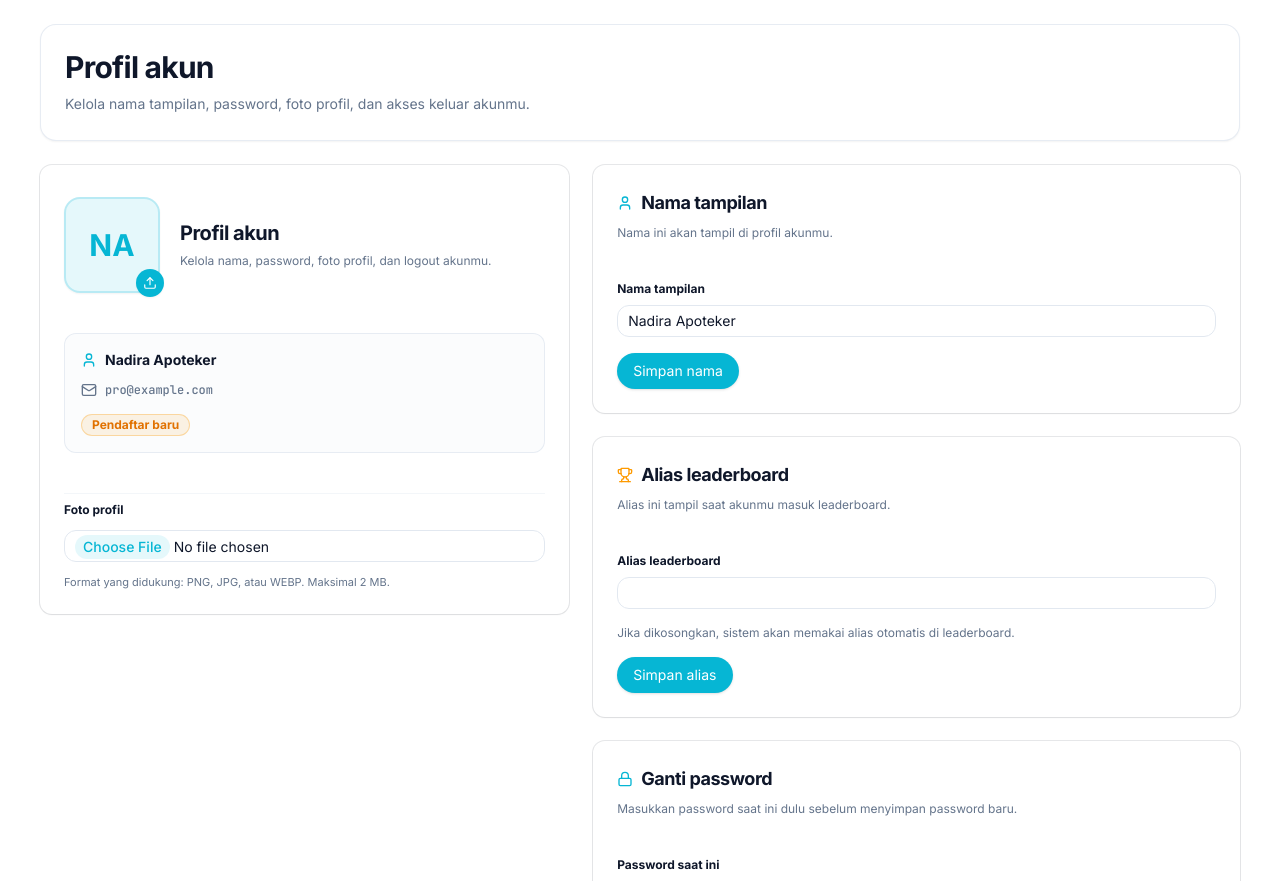
Test: ProfilePage › submits a valid display name change
The width and height of the screenshot is (1280, 881).
Replace the text in the field labelled "Nama tampilan" with "Nadira Apoteker Baru": (917, 321) x1=617 y1=305 x2=1216 y2=337
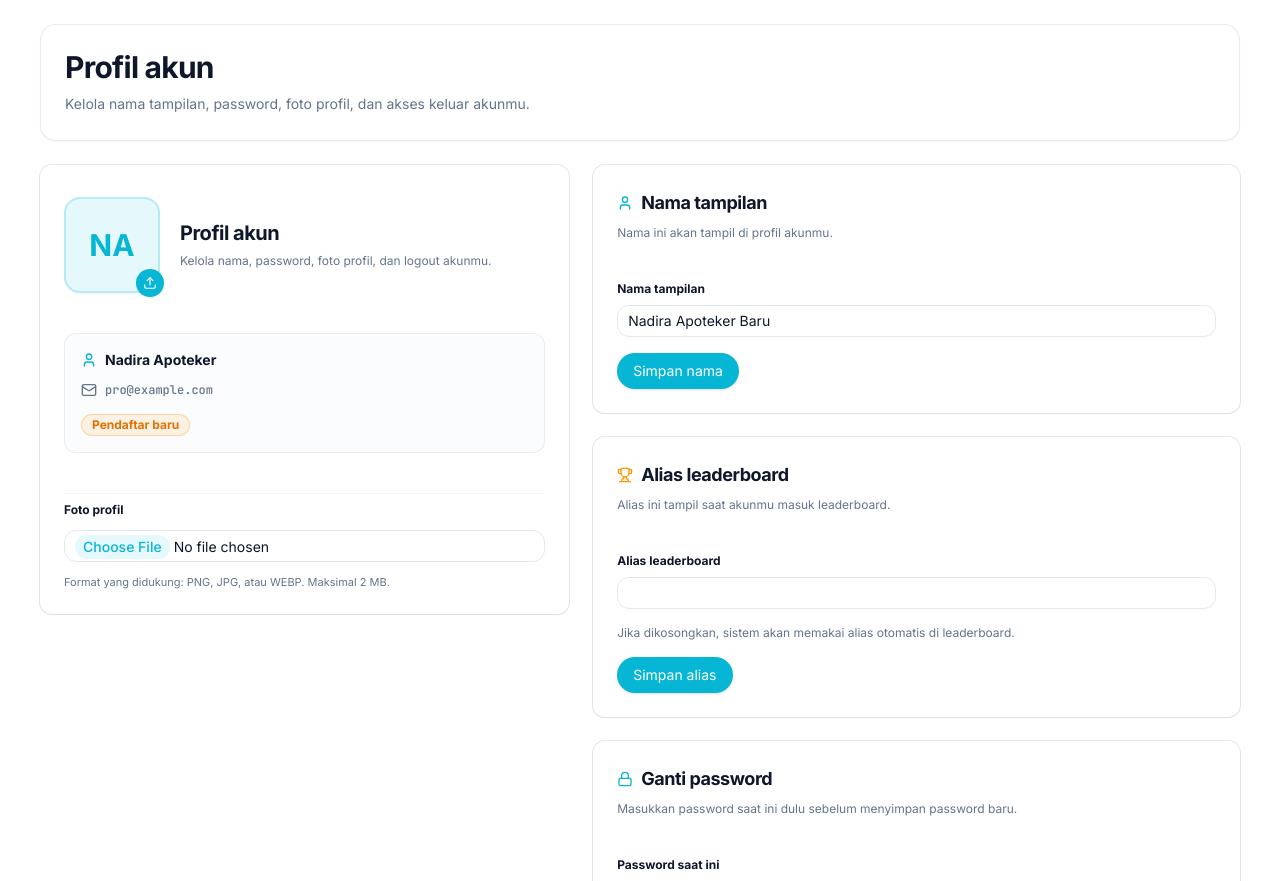
Click the button "Simpan nama": (678, 371) x1=617 y1=353 x2=739 y2=389
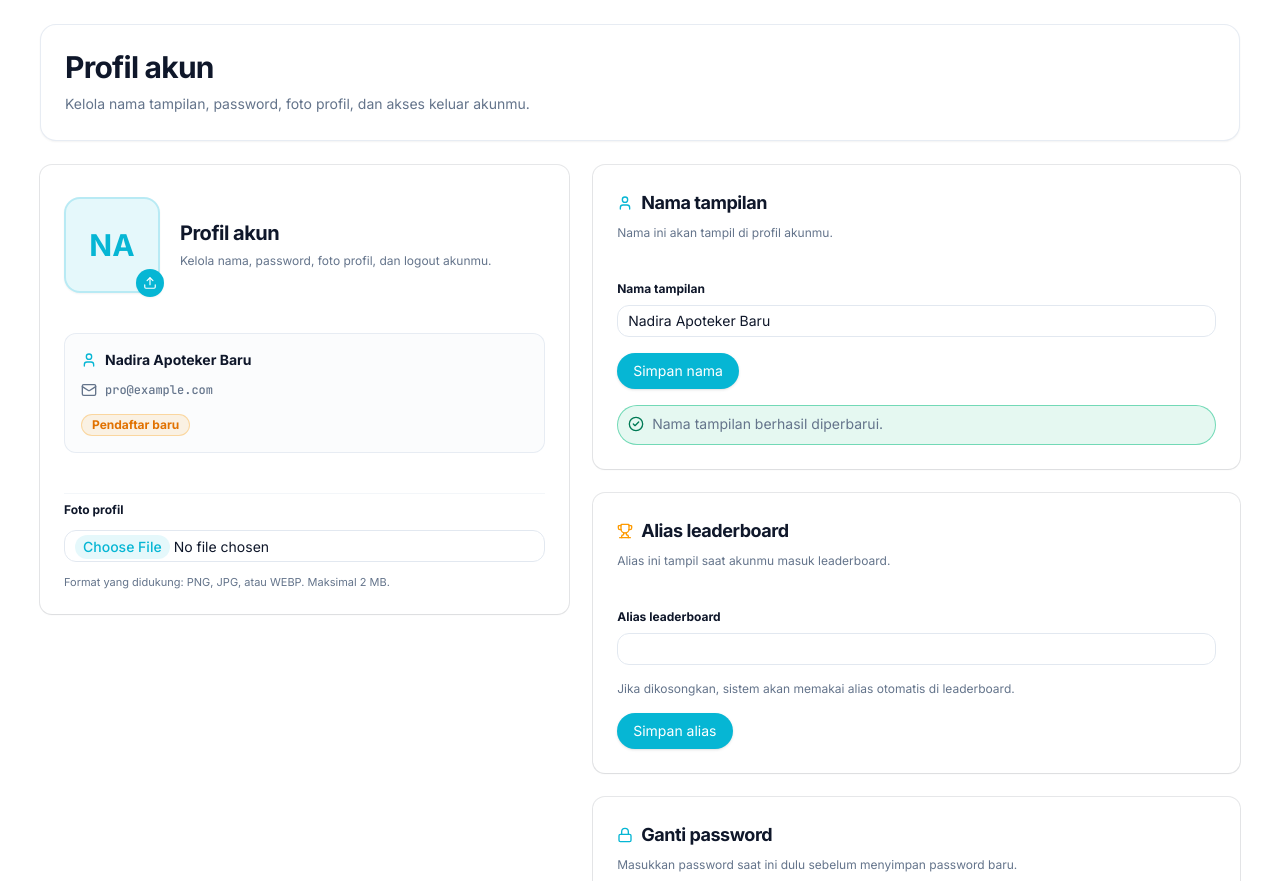
Result: the text "Nama tampilan berhasil diperbarui." is shown at x1=652 y1=415 x2=883 y2=432
